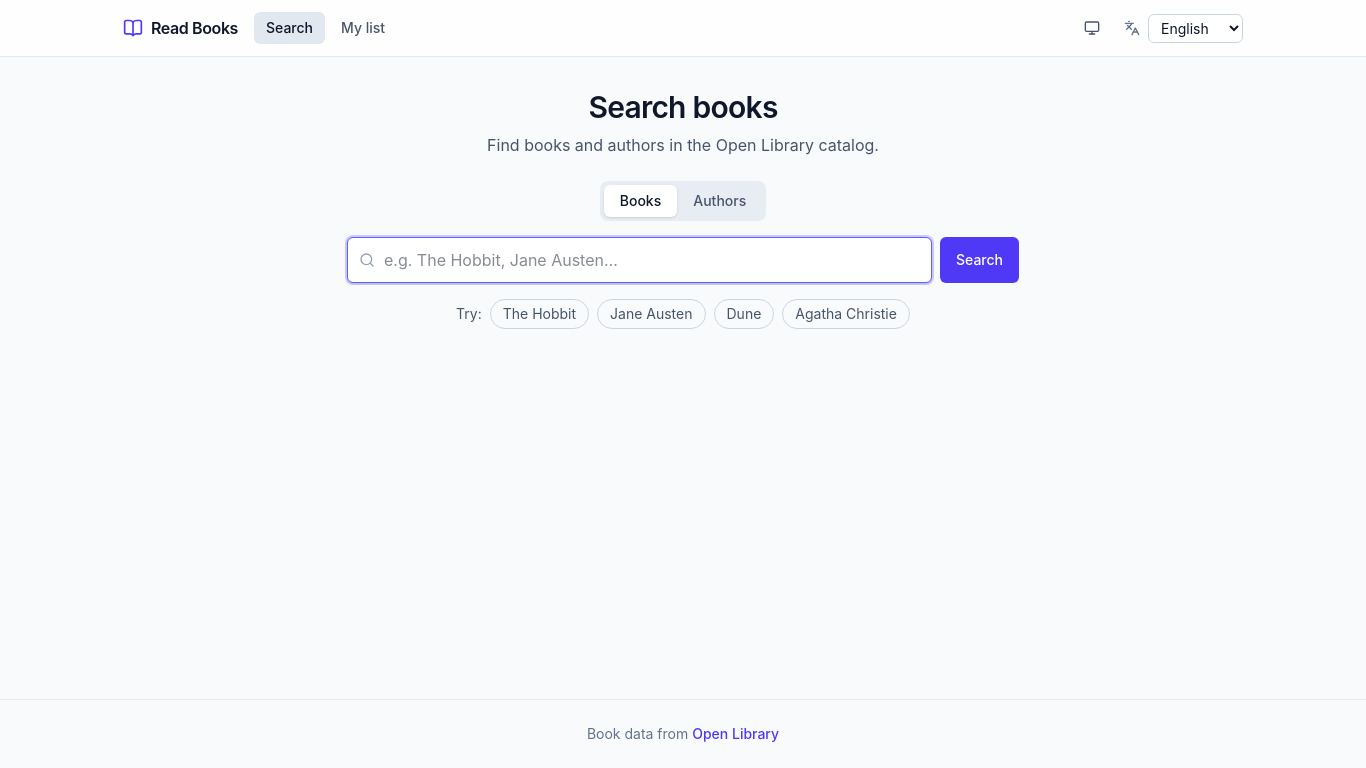
Test: SearchPage › searches immediately on submit
The image size is (1366, 768).
In the search field: point(640, 260) [347, 237, 932, 283], type "emma"
Then press Enter
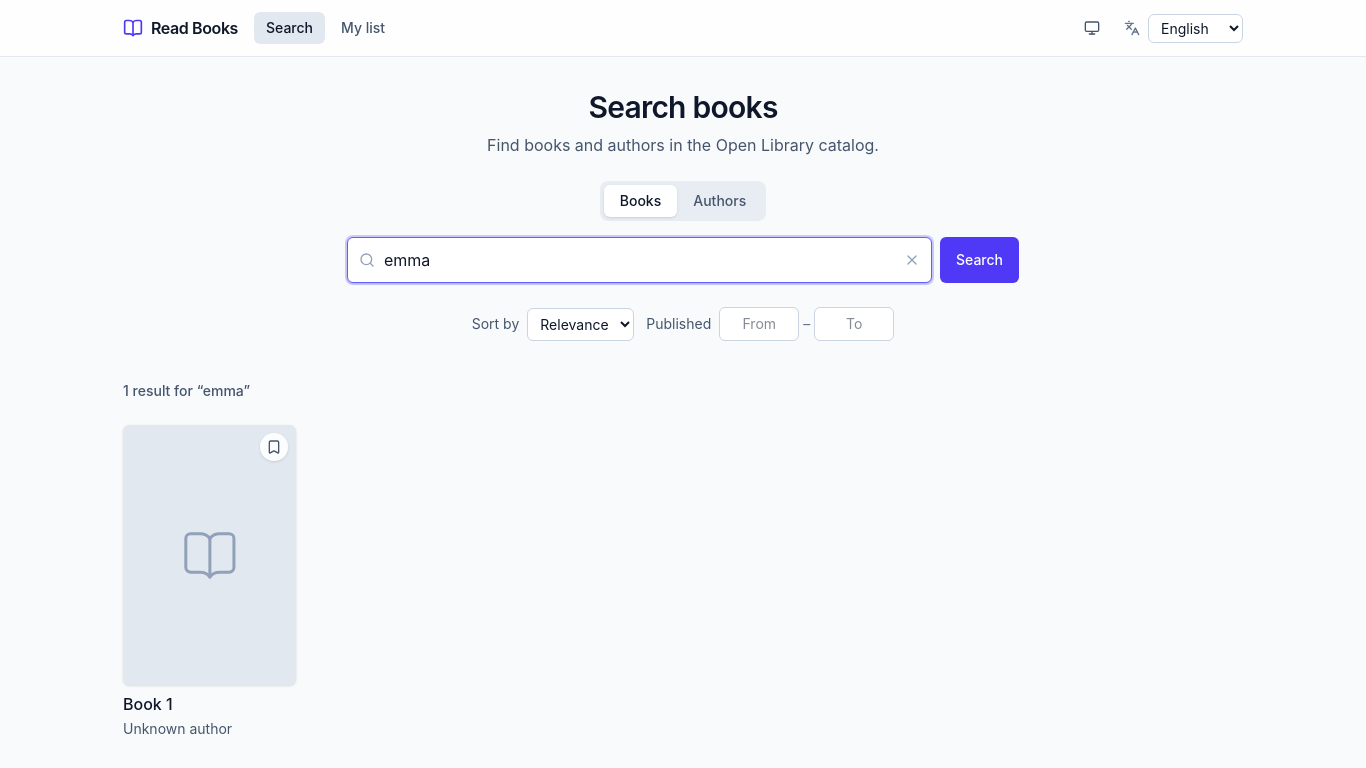
expect the link "Book 1" is shown: met, box [123, 694, 173, 714]
